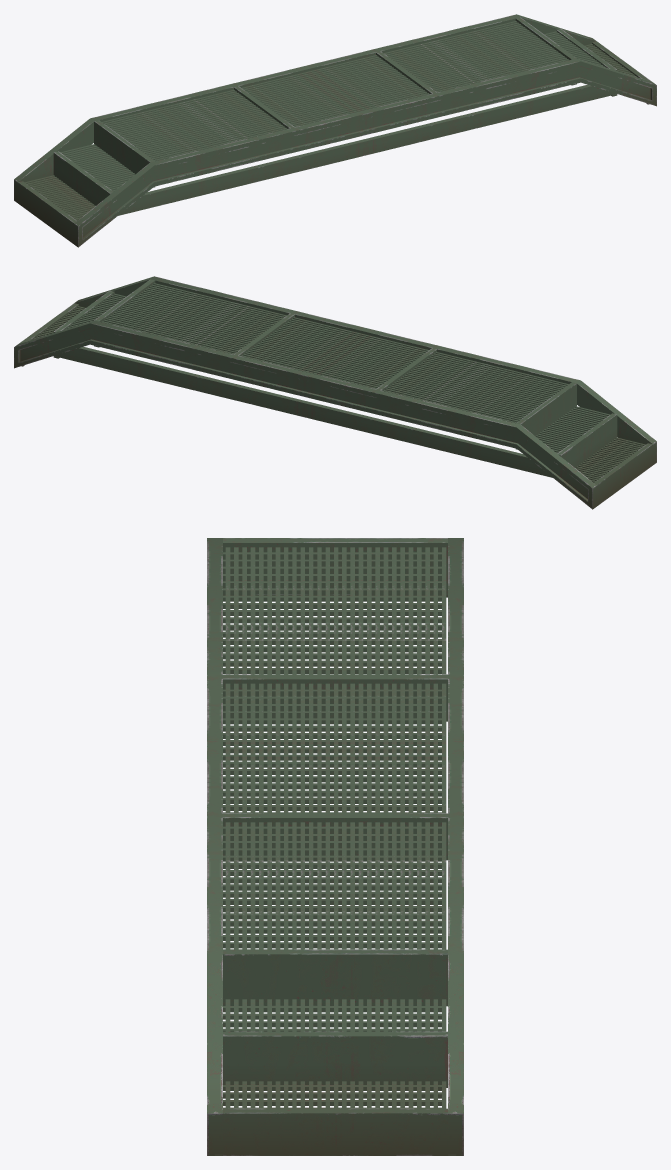
File: CatWalk-2.fbx
3 views of the same model, one above another, from view 1: azimuth 30°, elevation 25°; view 2: azimuth 150°, elevation 25°; view 3: azimuth 270°, elevation 25° (orthographic). The views are drawn at different scales.
Parts seen in each view (by area): view 1: Cube; view 2: Cube; view 3: Cube.
Part boxes in pixels (box(x1,y1,x2,y2)): Cube: box(14, 14, 656, 247); Cube: box(14, 276, 656, 509); Cube: box(207, 538, 463, 1155).
Bounding box in the file's own units: 6.01 × 0.6315 × 1.16.
